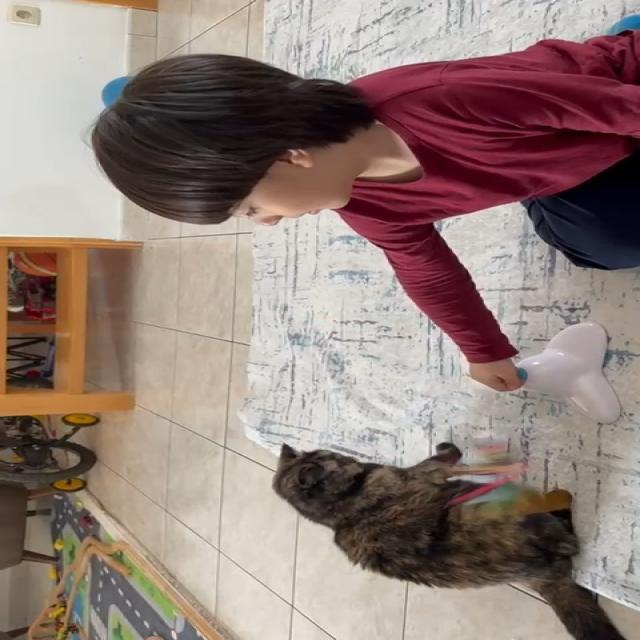authorized: (271, 441, 628, 639)
